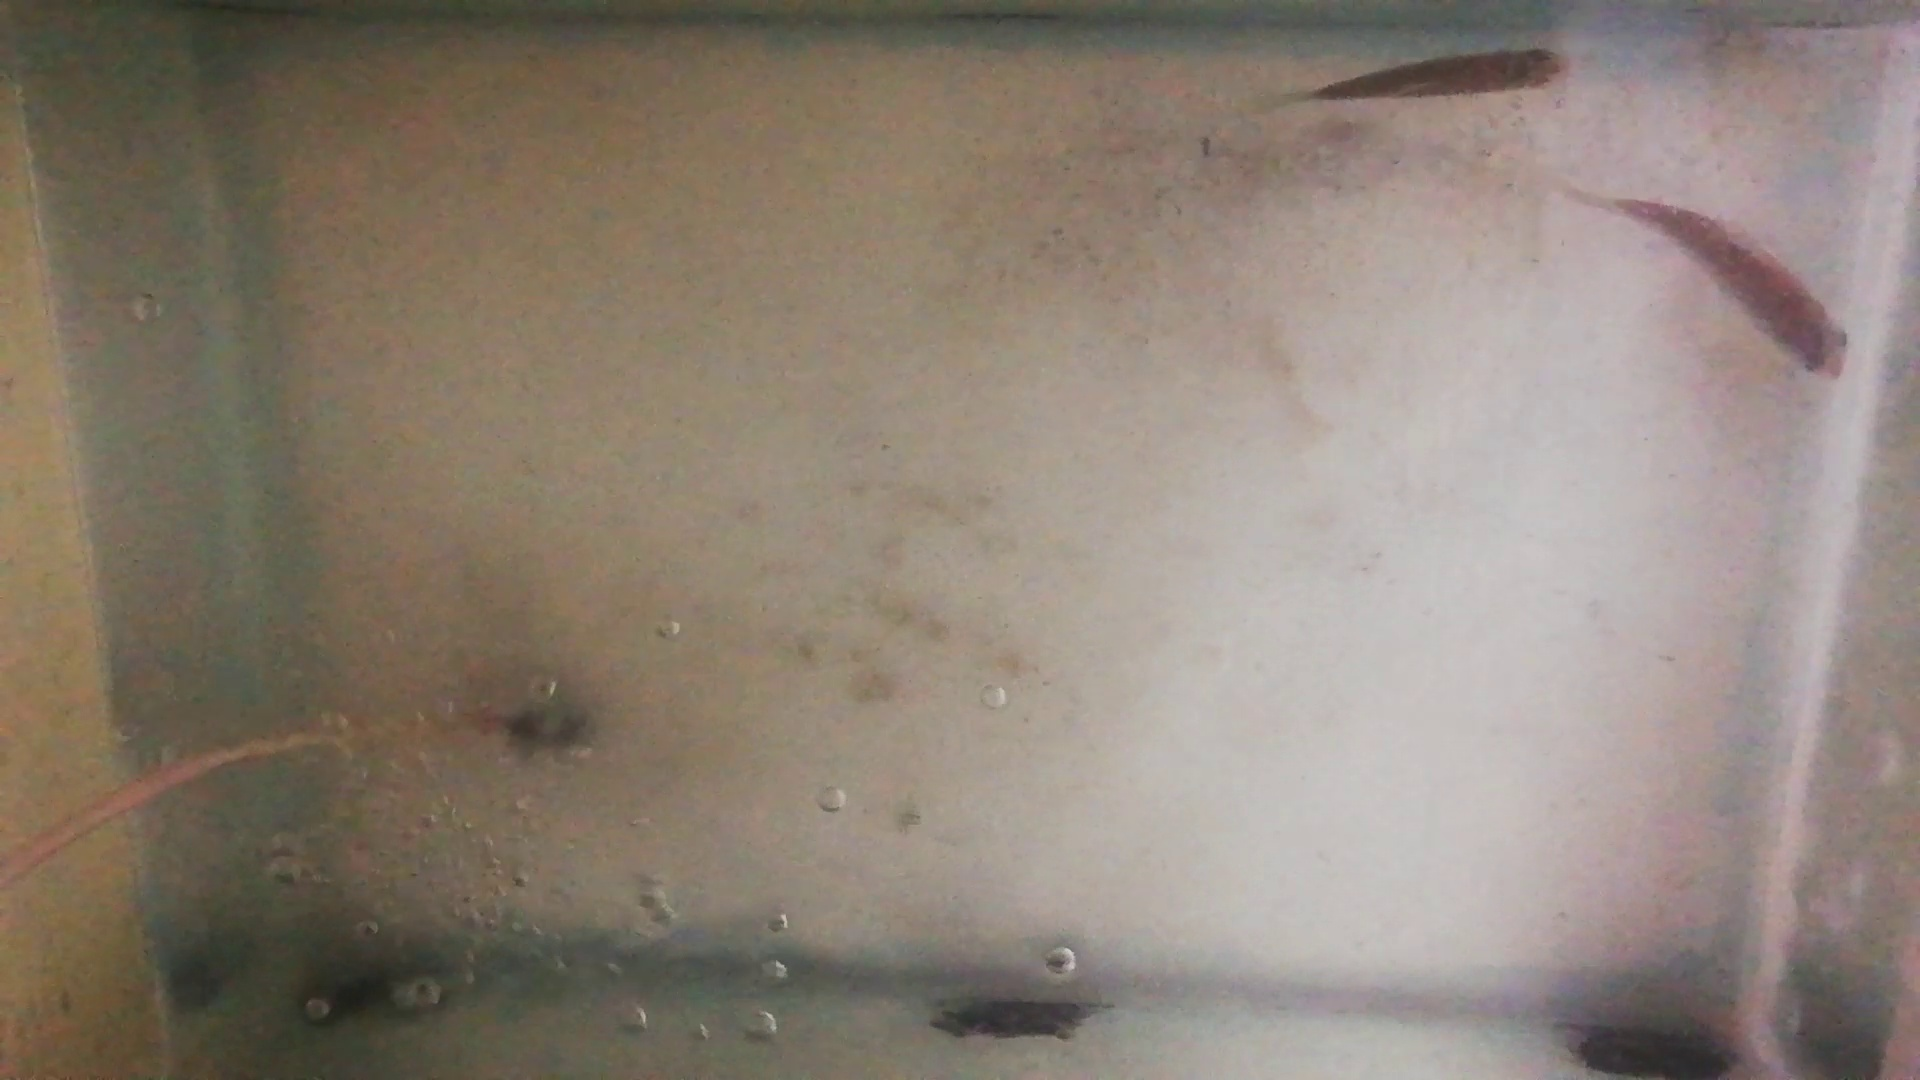fish: (1610, 193, 1854, 382), (1313, 44, 1569, 105)
